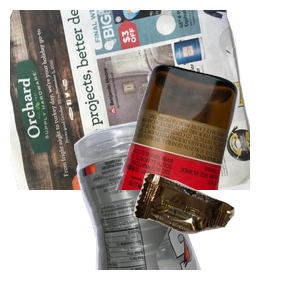glass: (113, 62, 300, 242)
paper: (10, 10, 250, 190)
plastic: (71, 120, 265, 300)
trash: (131, 171, 300, 300)
